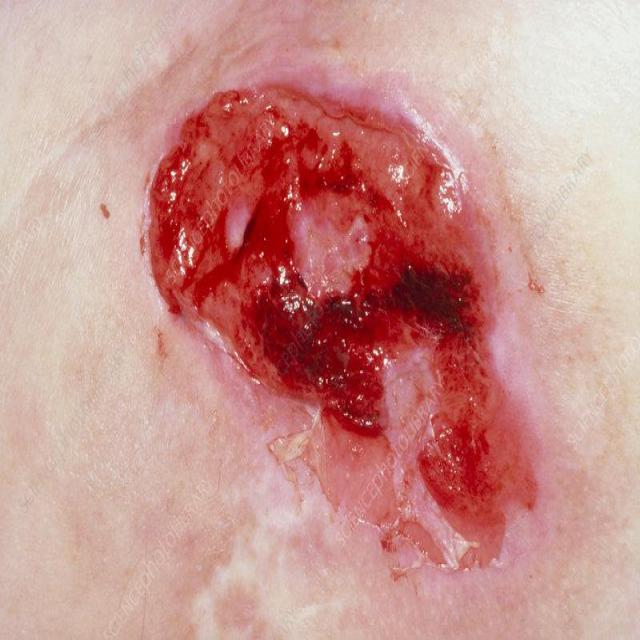stage-3: (149, 85, 534, 568)
